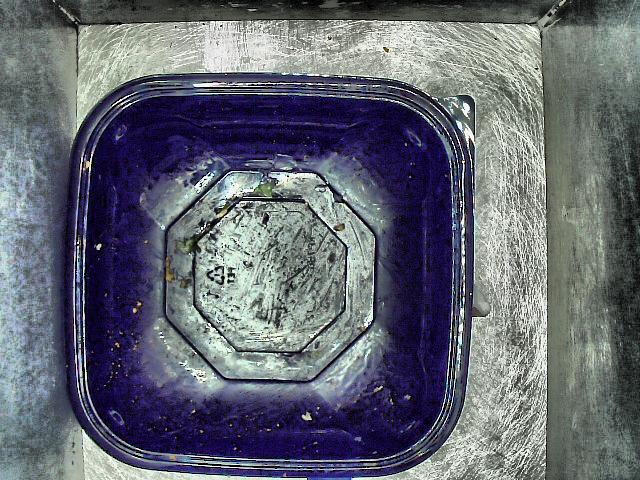Plastic: (16, 64, 481, 480)
